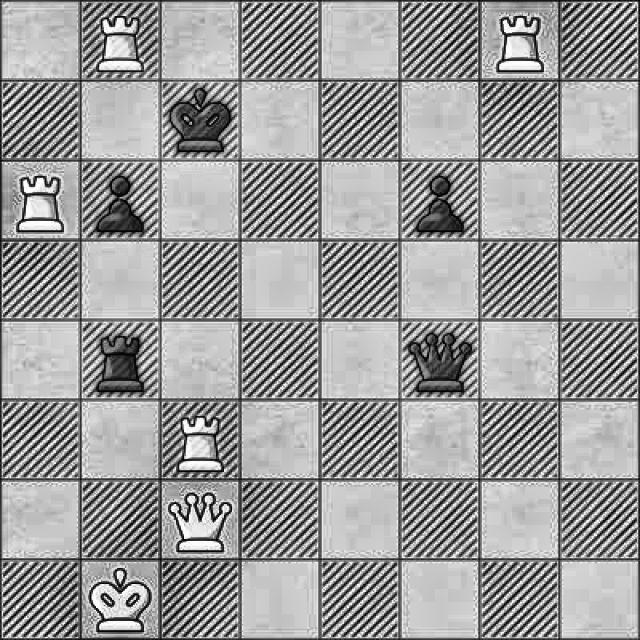black king: (161, 83, 235, 155)
black pawn: (86, 166, 154, 237), (409, 166, 475, 235)
black queen: (402, 328, 478, 398)
black rook: (90, 326, 148, 395)
white king: (84, 560, 150, 640)
white queen: (165, 487, 232, 557)
white rook: (5, 161, 77, 236), (166, 403, 232, 477), (88, 1, 148, 77), (491, 14, 554, 75)
